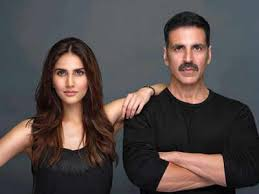Bad: (1, 12, 259, 192)
